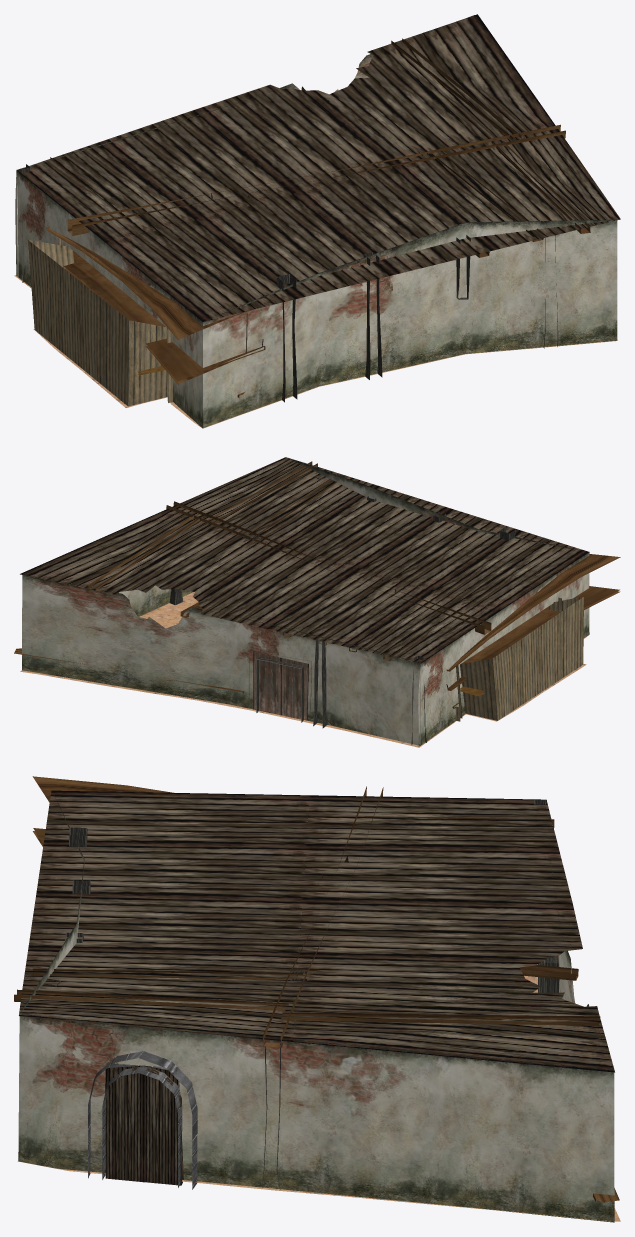
File: pir_m_bld_int_tavernB_destroyed.fbx
3 views of the same model, one above another, from view 1: azimuth 30°, elevation 25°; view 2: azimuth 150°, elevation 25°; view 3: azimuth 270°, elevation 25° (orthographic). The views are drawn at different scales.
Visible parts, largest first — view 1: tavern_int_v2s12:Ceiling1, TavernWall, tavern_int_v2s12:WallStorage, tavern_int_v2s12:TavernWall2, tavern_int_v2s12:pasted__polySurface9, polySurface2, pasted__polySurface9, ceiling_beams, floor, pasted__beam25, pasted__beam26; view 2: tavern_int_v2s12:Ceiling1, TavernWall, tavern_int_v2s12:WallStorage, tavern_int_v2s12:TavernWall2, floor, pasted__polySurface9, tavern_int_v2s12:pasted__polySurface9, ceiling_beams, door_hole_2, polySurface2, door_left_2, pasted__beam30 (+2 smaller); view 3: tavern_int_v2s12:Ceiling1, TavernWall, ceiling_beams, door_right, door_left, door_frame_1, pasted__polySurface9, floor, polySurface2.
Boxes of the visible parts, <box> form: tavern_int_v2s12:Ceiling1: <box>17,14,620,321</box>; TavernWall: <box>16,15,617,427</box>; tavern_int_v2s12:WallStorage: <box>28,237,172,406</box>; tavern_int_v2s12:TavernWall2: <box>15,170,202,428</box>; tavern_int_v2s12:pasted__polySurface9: <box>64,251,265,384</box>; polySurface2: <box>67,124,565,235</box>; pasted__polySurface9: <box>46,226,250,339</box>; ceiling_beams: <box>50,38,590,298</box>; floor: <box>14,275,617,428</box>; pasted__beam25: <box>363,252,382,379</box>; pasted__beam26: <box>277,274,297,402</box>; tavern_int_v2s12:Ceiling1: <box>20,457,588,663</box>; TavernWall: <box>22,458,589,745</box>; tavern_int_v2s12:WallStorage: <box>456,596,583,720</box>; tavern_int_v2s12:TavernWall2: <box>418,552,589,746</box>; floor: <box>20,592,588,747</box>; pasted__polySurface9: <box>446,554,620,671</box>; tavern_int_v2s12:pasted__polySurface9: <box>447,586,620,690</box>; ceiling_beams: <box>88,461,532,661</box>; door_hole_2: <box>253,651,308,720</box>; polySurface2: <box>166,501,491,634</box>; door_left_2: <box>281,662,303,719</box>; pasted__beam30: <box>313,640,327,728</box>; tavern_int_v2s12:Ceiling1: <box>19,790,614,1072</box>; TavernWall: <box>18,798,614,1222</box>; ceiling_beams: <box>14,816,600,1025</box>; door_right: <box>105,1067,143,1182</box>; door_left: <box>143,1067,182,1185</box>; door_frame_1: <box>88,1051,197,1189</box>; pasted__polySurface9: <box>32,776,173,802</box>; floor: <box>17,964,620,1221</box>; polySurface2: <box>262,786,383,1047</box>.
Size of the model in its own units: 9792 by 2298 by 7627.
Materials: 3 (3 with a texture image).
